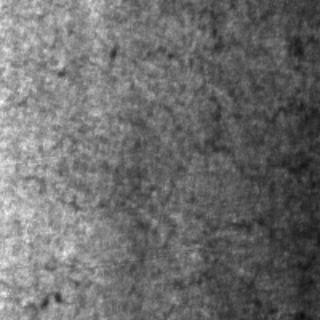crazing: (118, 80, 318, 244)
